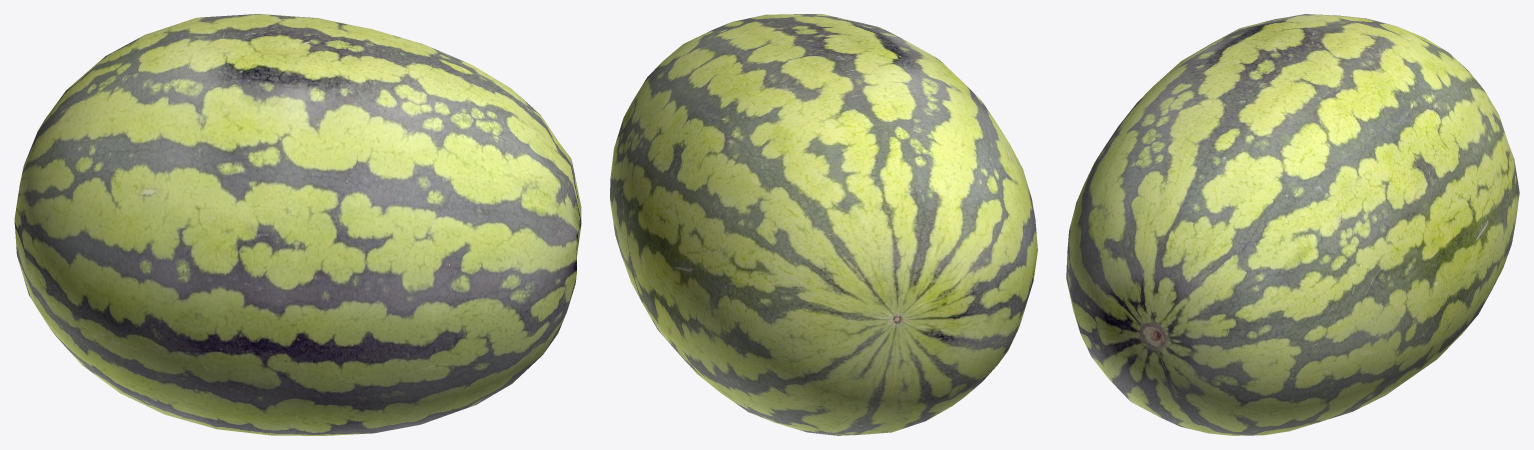
The model's file is realwatermelon.glb.
3 renders of one model, left to right at view 1: azimuth 30°, elevation 25°; view 2: azimuth 150°, elevation 25°; view 3: azimuth 270°, elevation 25°, orthographic. The views are drawn at different scales.
Parts seen in each view (by area): view 1: Watermelon; view 2: Watermelon; view 3: Watermelon.
Part boxes in pixels (x1,y1,x2,y2): Watermelon: (14,14,581,435); Watermelon: (610,14,1037,435); Watermelon: (1066,14,1519,435).
Size of the model in its own units: 0.3 by 0.237 by 0.2753.
1 material, 1 textured.
